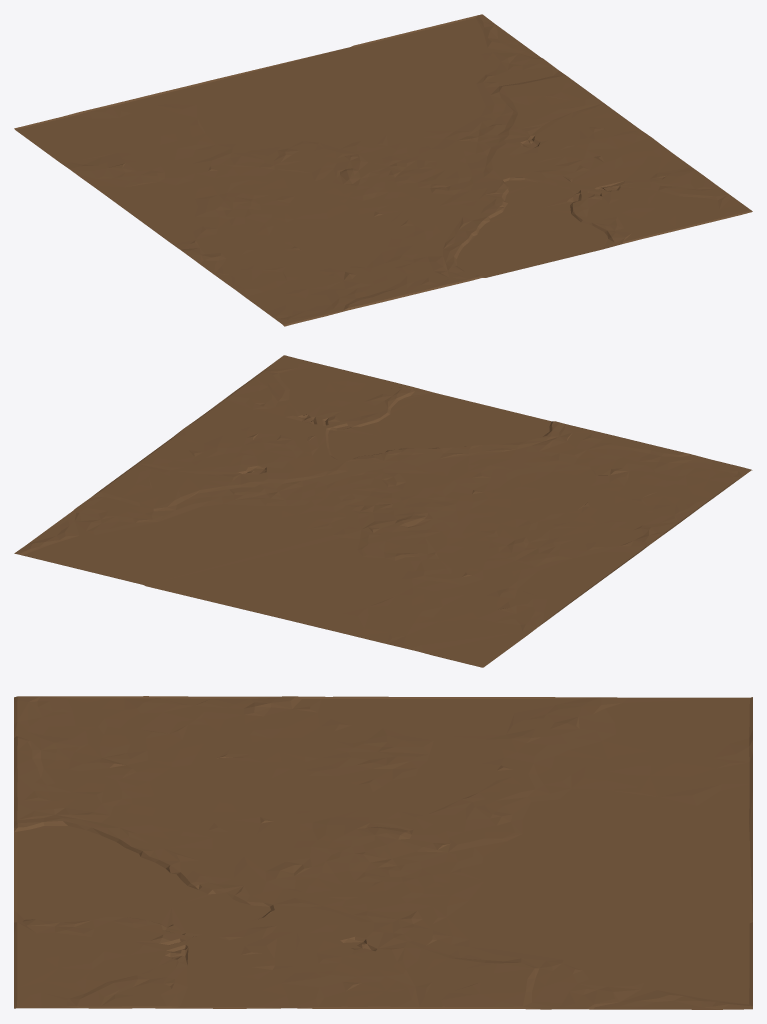
File: Tallinn-Heightmap-decimated-0.02.glb
The picture shows the model from 3 angles, top to bottom: view 1: azimuth 30°, elevation 25°; view 2: azimuth 150°, elevation 25°; view 3: azimuth 270°, elevation 25°; orthographic projection. The views are drawn at different scales.
Visible parts, largest first — view 1: Tallinn-Heightmap-collapsed; view 2: Tallinn-Heightmap-collapsed; view 3: Tallinn-Heightmap-collapsed.
Boxes of the visible parts, x1,y1,x2,y2 form: Tallinn-Heightmap-collapsed: (14,14,752,326); Tallinn-Heightmap-collapsed: (14,355,752,667); Tallinn-Heightmap-collapsed: (14,696,752,1009).
Size of the model in its own units: 100 by 0.544 by 100.
